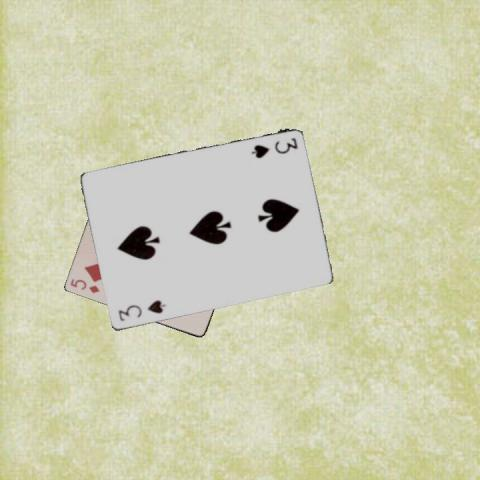3s: (116, 298, 168, 324), (248, 135, 299, 160)
5d: (67, 275, 101, 295)
